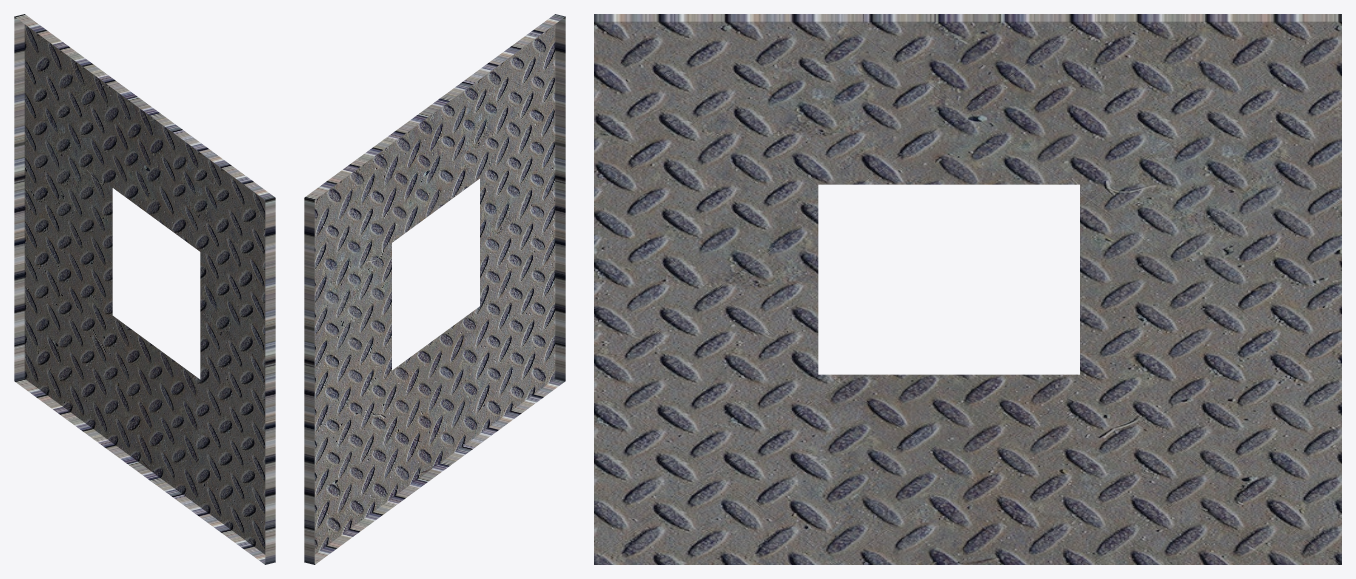
Rendered from door.obj.
3 views of the same model, side by side, from view 1: azimuth 30°, elevation 25°; view 2: azimuth 150°, elevation 25°; view 3: azimuth 270°, elevation 25° (orthographic). The views are drawn at different scales.
Visible parts, largest first — view 1: door1_Plane.001; view 2: door1_Plane.001; view 3: door1_Plane.001.
Boxes of the visible parts, x1=… form: door1_Plane.001: x1=14, y1=14, x2=275, y2=564; door1_Plane.001: x1=304, y1=14, x2=565, y2=564; door1_Plane.001: x1=594, y1=14, x2=1341, y2=564.
Size of the model in its own units: 0.12 by 4 by 4.99.
